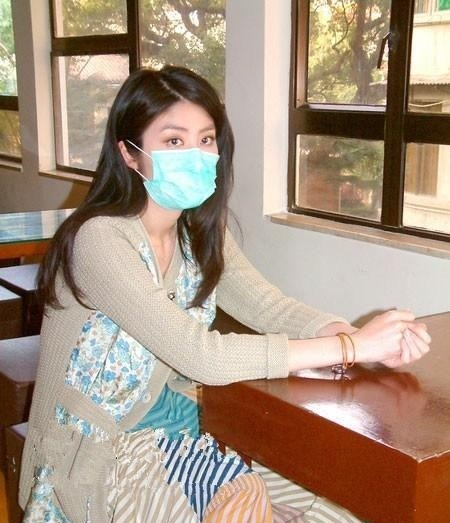face_mask: (138, 99, 218, 210)
